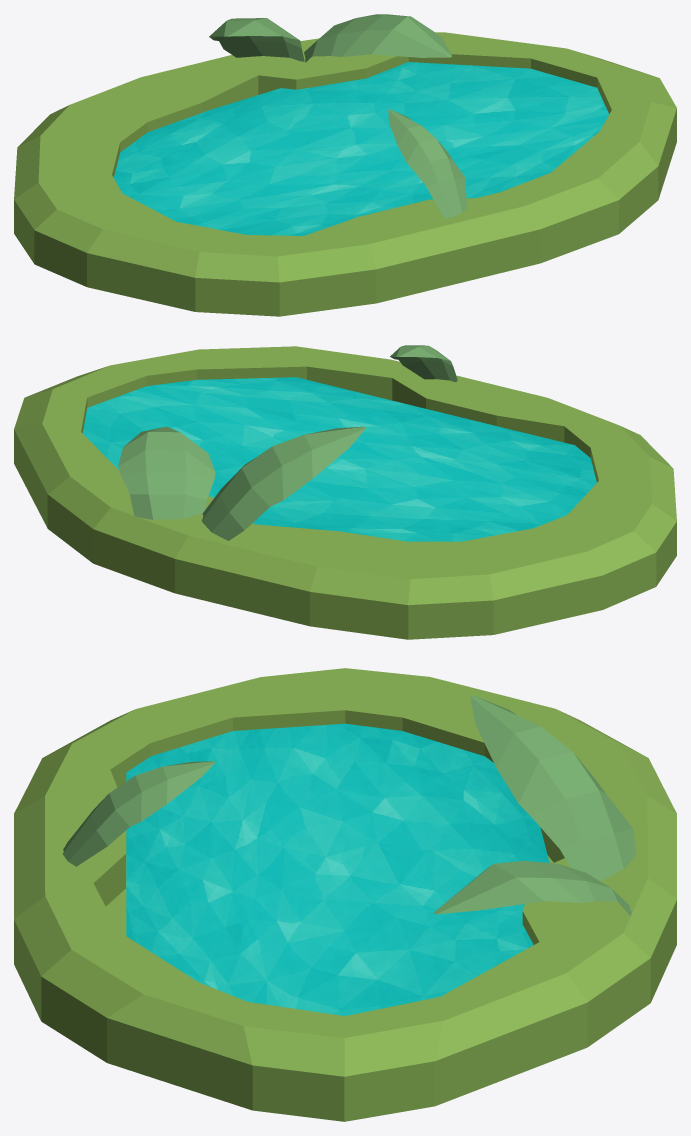
Rendered from water2.glb.
3 renders of one model, top to bottom at view 1: azimuth 30°, elevation 25°; view 2: azimuth 150°, elevation 25°; view 3: azimuth 270°, elevation 25°, orthographic. The views are drawn at different scales.
Visible parts, largest first — view 1: Cube.151, Plane.091, Plane.092, Plane.094, Plane.093; view 2: Cube.151, Plane.091, Plane.093, Plane.092, Plane.094; view 3: Cube.151, Plane.091, Plane.093, Plane.092, Plane.094.
Part boxes in pixels (left/top/right/bottom): Cube.151: left=14, top=32, right=676, bottom=316; Plane.091: left=114, top=62, right=609, bottom=235; Plane.092: left=304, top=14, right=451, bottom=62; Plane.094: left=388, top=109, right=467, bottom=218; Plane.093: left=209, top=18, right=304, bottom=61; Cube.151: left=14, top=346, right=676, bottom=639; Plane.091: left=82, top=377, right=596, bottom=541; Plane.093: left=201, top=426, right=365, bottom=540; Plane.092: left=118, top=427, right=215, bottom=519; Plane.094: left=390, top=345, right=457, bottom=382; Cube.151: left=14, top=668, right=676, bottom=1121; Plane.091: left=126, top=723, right=549, bottom=1015; Plane.093: left=470, top=695, right=636, bottom=880; Plane.092: left=433, top=860, right=631, bottom=915; Plane.094: left=63, top=761, right=214, bottom=866.
Size of the model in its own units: 5.09 by 1.05 by 3.54.
Materials: 5 (1 with a texture image).
